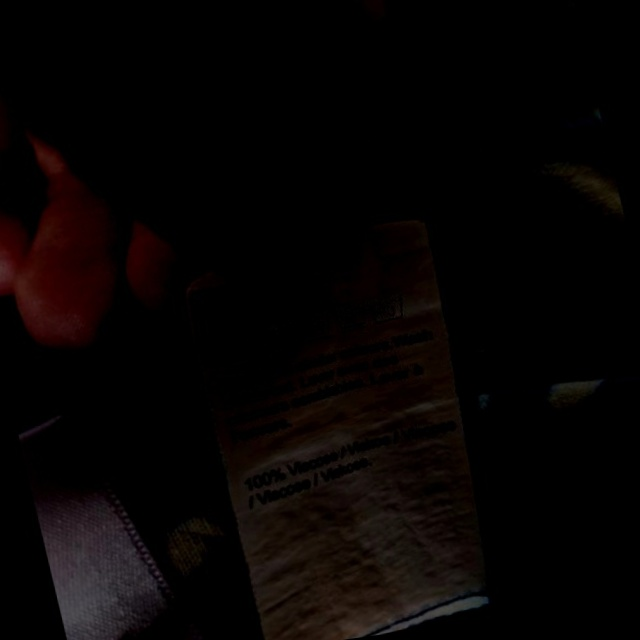50C: (225, 322, 269, 360), (333, 299, 371, 337)
60C: (262, 313, 301, 352), (300, 307, 337, 345)
70C: (365, 291, 412, 329)
